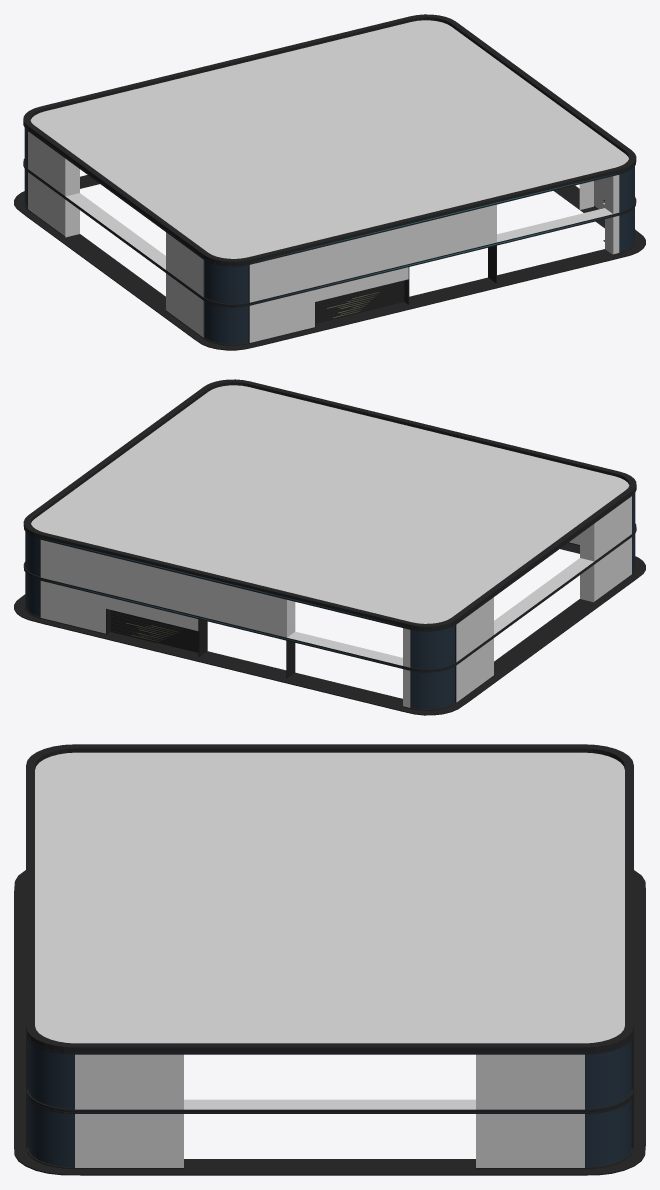
Rendered from Building_Spaxe_1st_L0.fbx.
3 renders of one model, top to bottom at view 1: azimuth 30°, elevation 25°; view 2: azimuth 150°, elevation 25°; view 3: azimuth 270°, elevation 25°, orthographic. The views are drawn at different scales.
Visible parts, largest first — view 1: Building_Spaxe_1st_L0; view 2: Building_Spaxe_1st_L0; view 3: Building_Spaxe_1st_L0.
Part boxes in pixels (x1=…): Building_Spaxe_1st_L0: x1=14, y1=14, x2=645, y2=350; Building_Spaxe_1st_L0: x1=14, y1=379, x2=645, y2=715; Building_Spaxe_1st_L0: x1=14, y1=744, x2=645, y2=1175.
Bounding box in the file's own units: 61 × 11.16 × 52.
